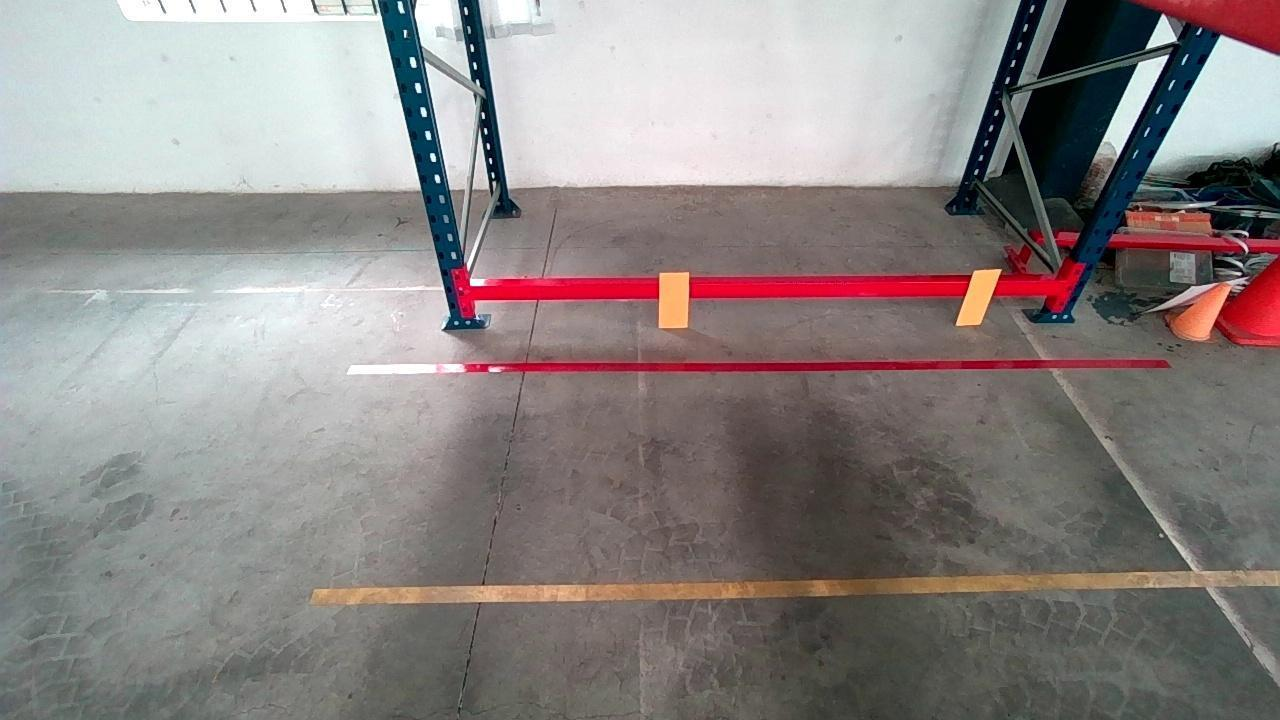h_rack: (468, 269, 1055, 301)
orange_strip: (956, 268, 1004, 324), (659, 270, 689, 327)
red_line: (362, 346, 1178, 375)
yellow_line: (321, 566, 1263, 612)
